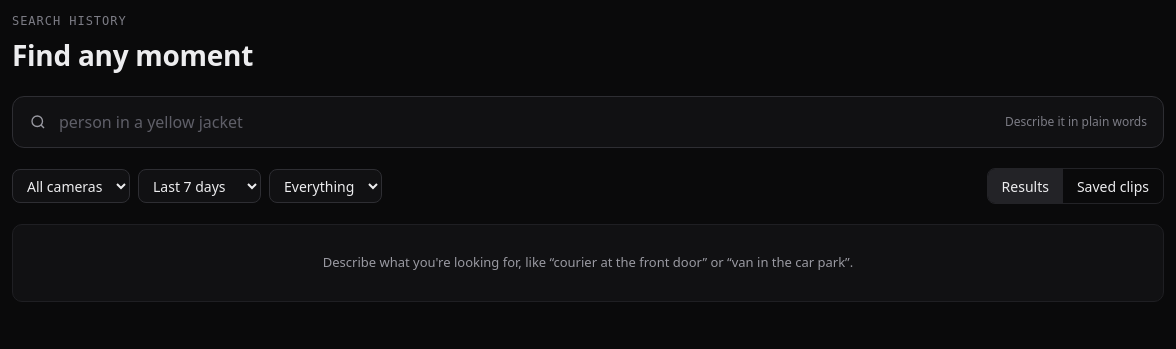
Test: SearchPage › disables clip deletion for viewers
What coordinates should you click on to do the following:
click the tab "Saved clips"
I would click on:
 (1113, 186)
Its box is x1=1063 y1=169 x2=1163 y2=203.
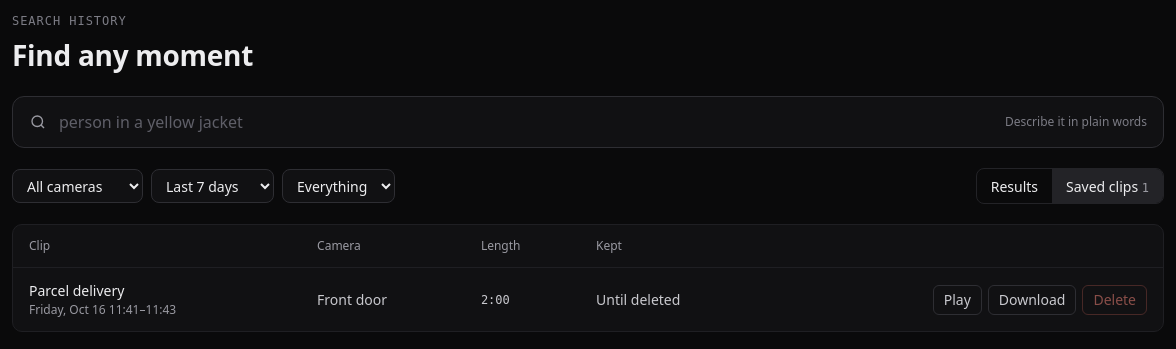
Expected: the text "Parcel delivery" is shown, x1=29 y1=281 x2=124 y2=300
Expected: the button with aria-label "Delete Parcel delivery" is disabled, x1=1082 y1=284 x2=1147 y2=314
